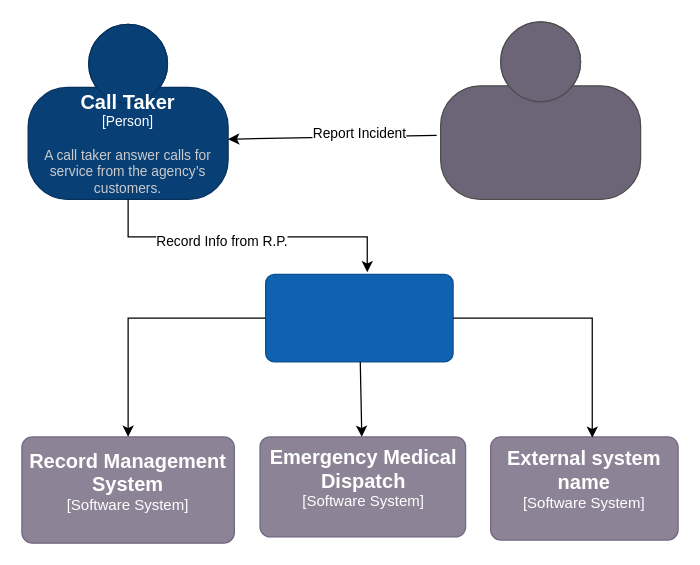
Some shapes in this 700 by 565 pixel diagram are drawn without their labels. Here are the shapes that lost their labels. From the top down, the centre of each, then its label:
point 540,110: Reporting Party [Person] An individual reporting an incident.
point 358,317: C.A.D [Software System]
